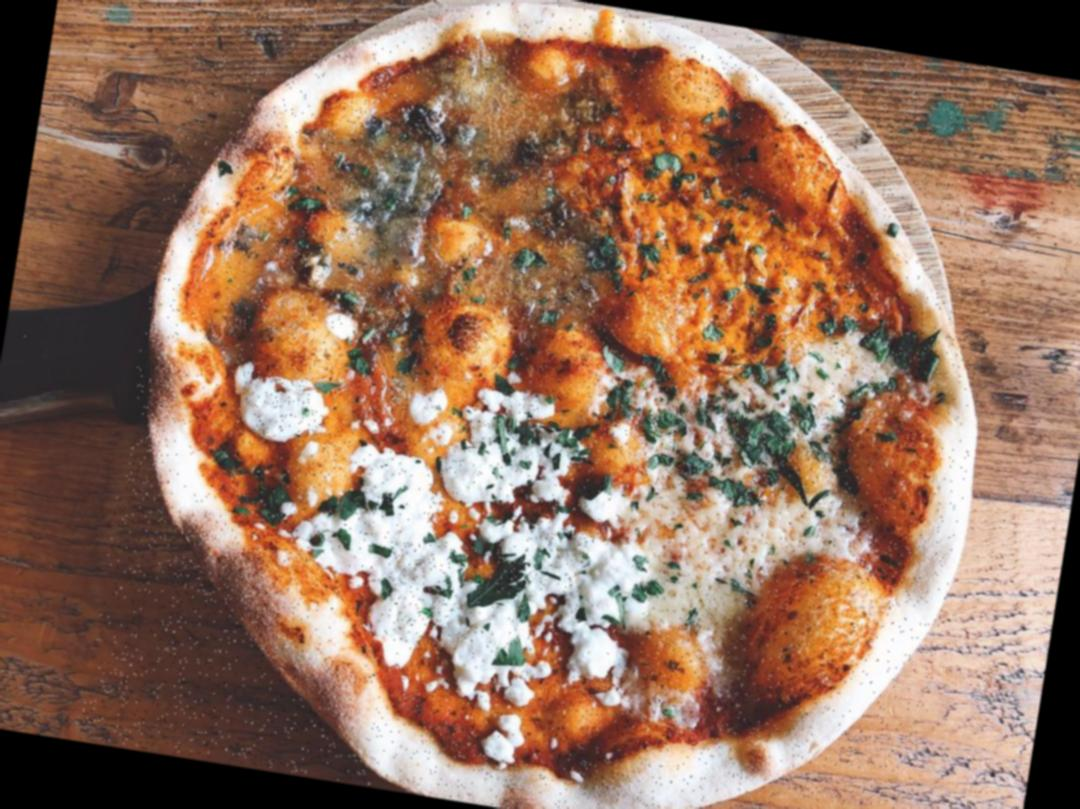Arugula: (646, 396, 800, 490)
Cheese: (324, 453, 436, 560), (568, 544, 652, 678), (443, 407, 557, 501), (640, 510, 739, 616), (494, 520, 602, 608), (378, 534, 457, 648), (441, 602, 537, 686), (732, 496, 833, 564), (233, 370, 322, 446)
Pizza: (78, 0, 1030, 809)
